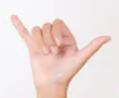clockwise: (8, 9, 113, 84)
